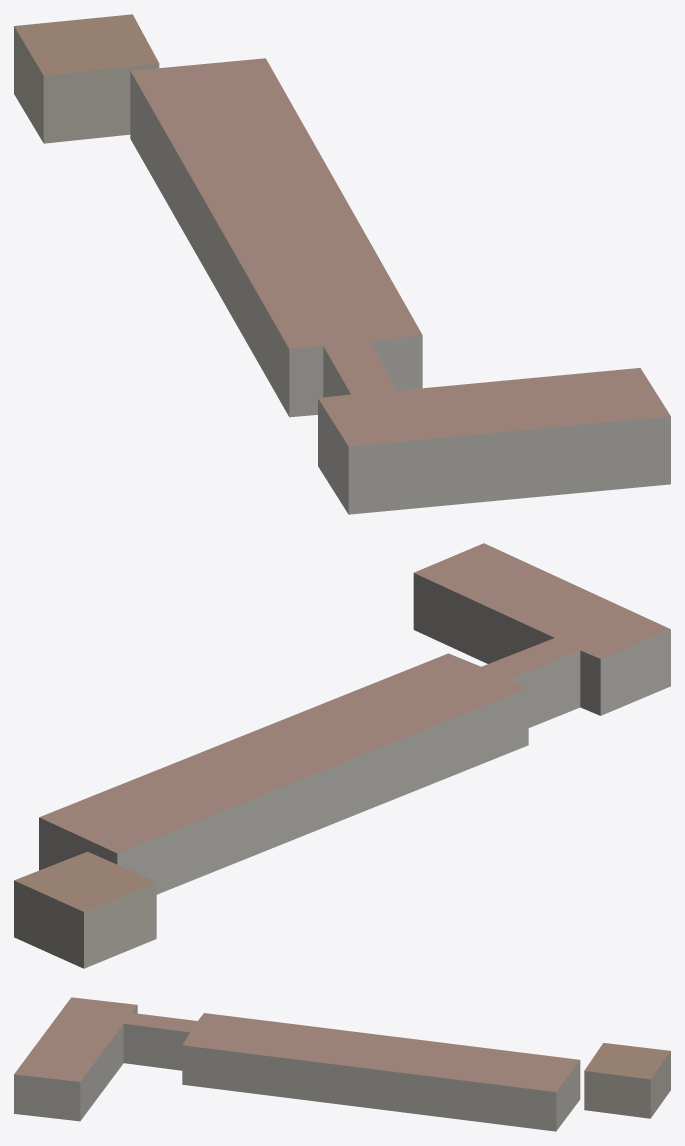
3 views of the same model, one above another, from view 1: azimuth 30°, elevation 25°; view 2: azimuth 150°, elevation 25°; view 3: azimuth 270°, elevation 25° (orthographic). The views are drawn at different scales.
Visible parts, largest first — view 1: tuile; view 2: tuile; view 3: tuile.
Boxes of the visible parts, x1,y1,x2,y2 form: tuile: (14, 14, 670, 514); tuile: (14, 543, 670, 968); tuile: (14, 997, 670, 1131).
Bounding box in the file's own units: 17.6 × 3.56 × 51.5.
